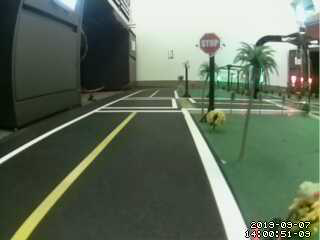Stop_Sign: (196, 30, 228, 59)
